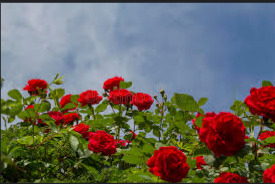RedRose: (191, 108, 246, 158), (144, 146, 188, 184), (241, 83, 275, 121), (87, 132, 125, 153), (52, 109, 85, 128), (130, 90, 155, 114), (21, 105, 48, 127), (210, 169, 248, 184), (99, 70, 127, 89), (108, 85, 133, 106), (28, 75, 47, 102), (75, 88, 104, 105), (60, 93, 79, 113), (260, 127, 275, 147), (262, 161, 275, 183), (71, 121, 93, 133), (193, 157, 205, 173)
